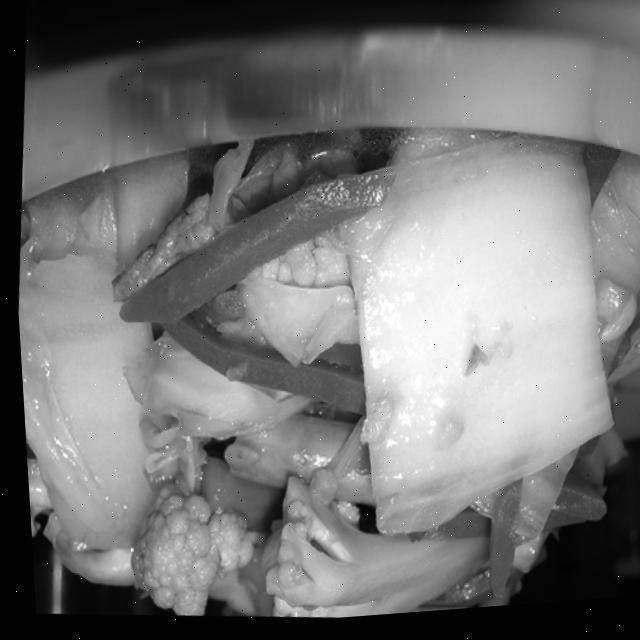蔬菜料理: (2, 0, 640, 640)
